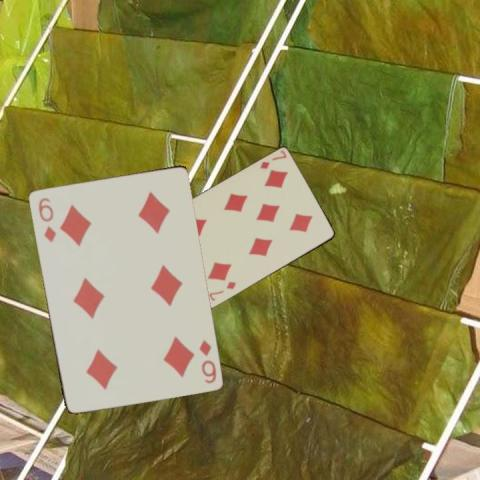6d: (35, 194, 57, 243), (196, 336, 218, 385)
7d: (206, 278, 237, 302), (257, 147, 288, 171)
